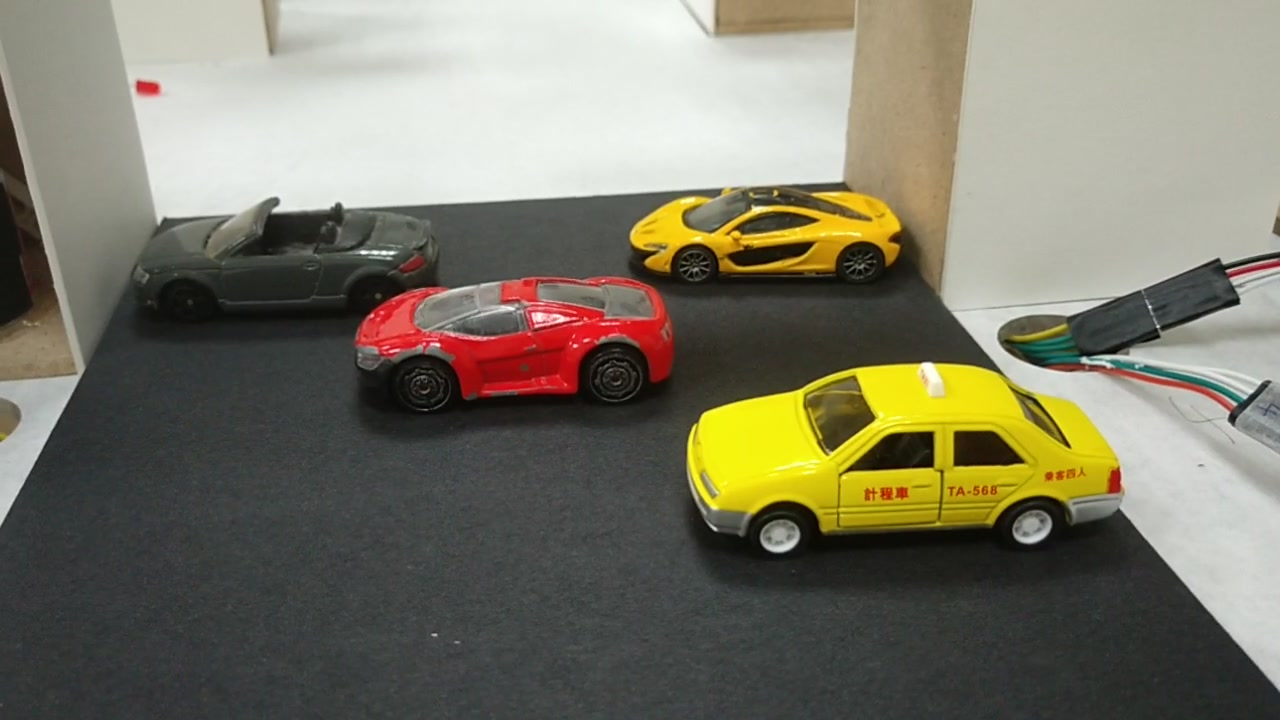car: (687, 376, 1124, 549), (356, 275, 676, 398), (139, 208, 439, 309), (633, 185, 902, 283)
